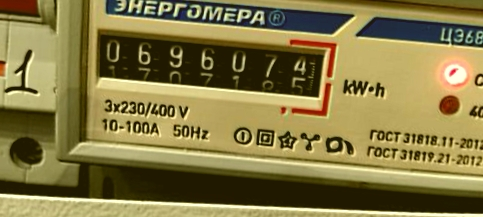0: (102, 37, 123, 64), (229, 47, 248, 75)
4: (291, 53, 309, 76)
5: (289, 75, 307, 97)
6: (197, 44, 217, 73), (134, 40, 154, 66)
7: (260, 52, 279, 79)
9: (166, 42, 184, 69)
screen: (81, 16, 340, 121)
